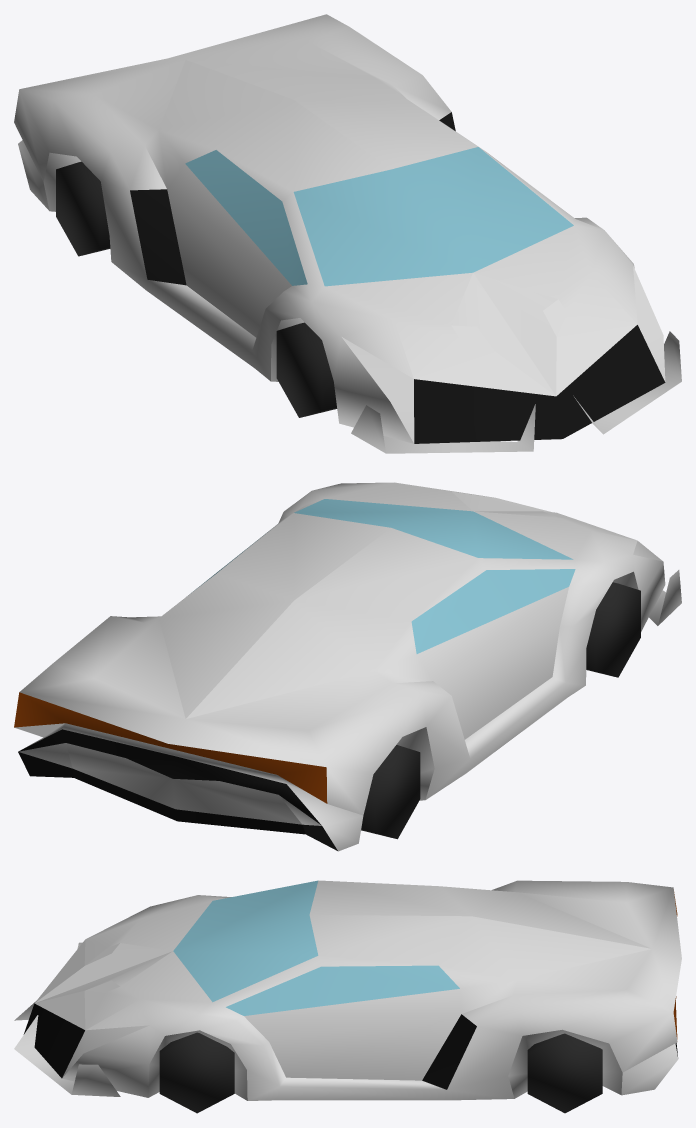
The model's file is Car Low.fbx.
The picture shows the model from 3 angles, top to bottom: view 1: azimuth 30°, elevation 25°; view 2: azimuth 150°, elevation 25°; view 3: azimuth 270°, elevation 25°; orthographic projection. The views are drawn at different scales.
Parts seen in each view (by area): view 1: body3_L2, wheel_FR_L2, wheel_BR_L2; view 2: body3_L2, wheel_BR_L2, wheel_FR_L2; view 3: body3_L2, wheel_FL_L2, wheel_BL_L2.
Boxes of the visible parts, x1=… form: body3_L2: x1=14, y1=14, x2=681, y2=453; wheel_FR_L2: x1=276, y1=322, x2=337, y2=417; wheel_BR_L2: x1=56, y1=161, x2=110, y2=256; body3_L2: x1=14, y1=482, x2=681, y2=851; wheel_BR_L2: x1=361, y1=745, x2=420, y2=839; wheel_FR_L2: x1=586, y1=582, x2=640, y2=677; body3_L2: x1=14, y1=880, x2=681, y2=1100; wheel_FL_L2: x1=159, y1=1032, x2=234, y2=1113; wheel_BL_L2: x1=527, y1=1033, x2=602, y2=1113.
Size of the model in its own units: 2.3 by 1.08 by 4.9.
